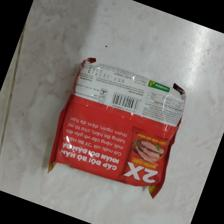3mien: (48, 57, 187, 200)
